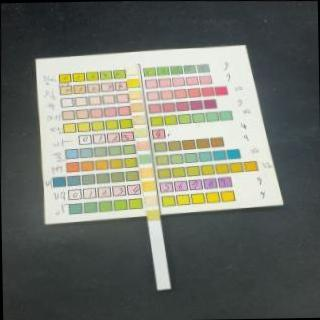mark: (146, 208, 160, 220), (144, 194, 156, 206), (138, 153, 151, 164), (134, 127, 146, 138), (140, 167, 152, 178), (142, 180, 154, 191), (130, 90, 142, 100), (131, 102, 143, 112), (132, 115, 144, 125), (136, 140, 148, 150), (126, 65, 138, 74), (128, 78, 138, 88)
